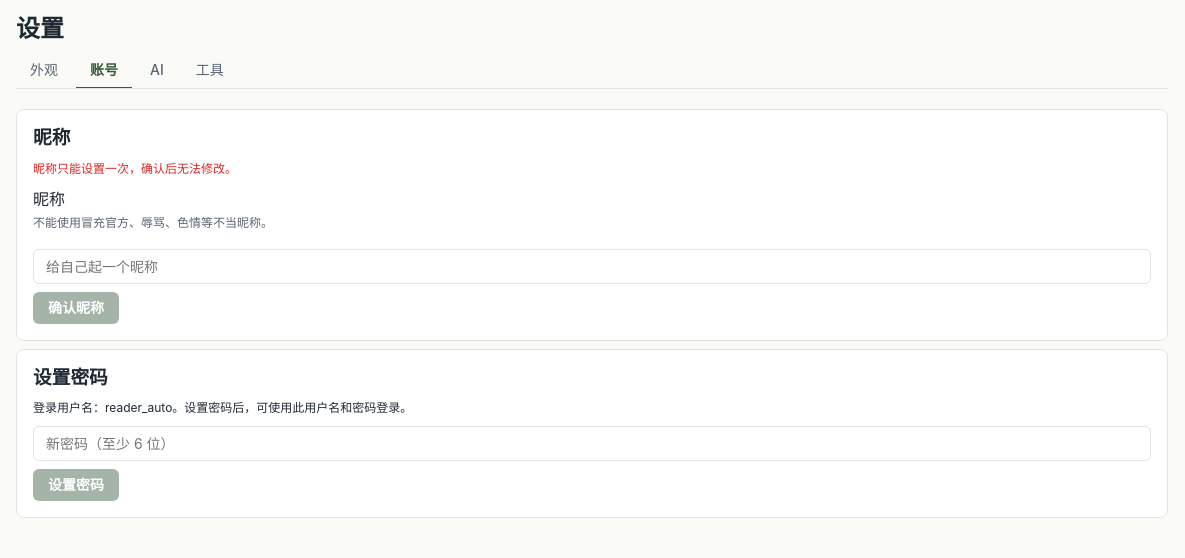
allows an external account to set its first password without an old password
Check: the heading "设置密码" is shown, box x1=33 y1=366 x2=108 y2=388
Check: the text "登录用户名：reader_auto。设置密码后，可使用此用户名和密码登录。" is shown, box x1=33 y1=400 x2=412 y2=415
Type "first-password" into the password field with placeholder "新密码（至少 6 位）" at [592, 443], box x1=33 y1=426 x2=1151 y2=461
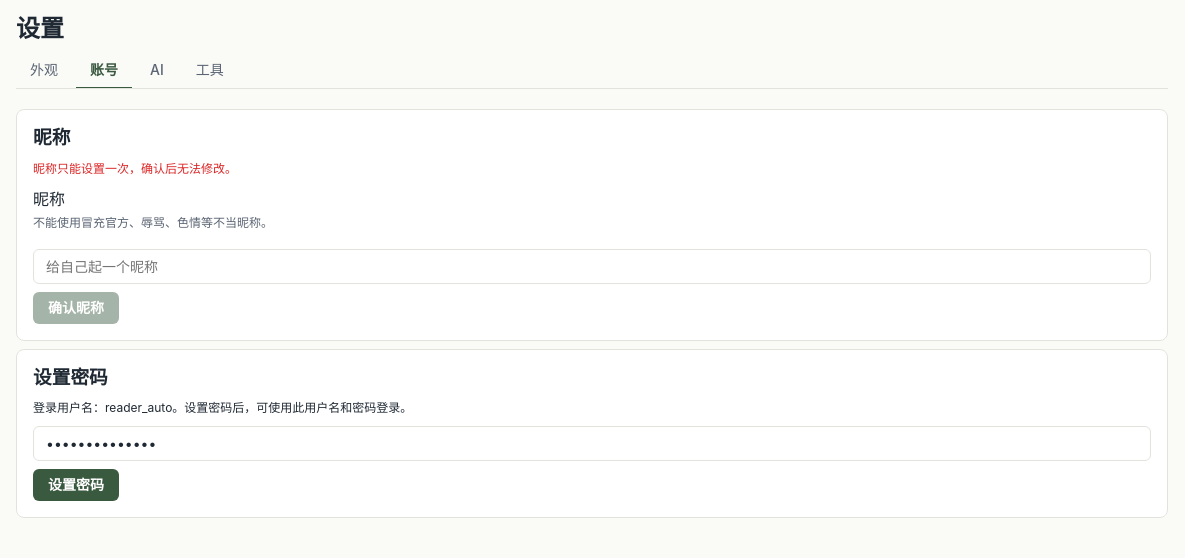
Click the button "设置密码" at [76, 485], box x1=33 y1=469 x2=119 y2=501
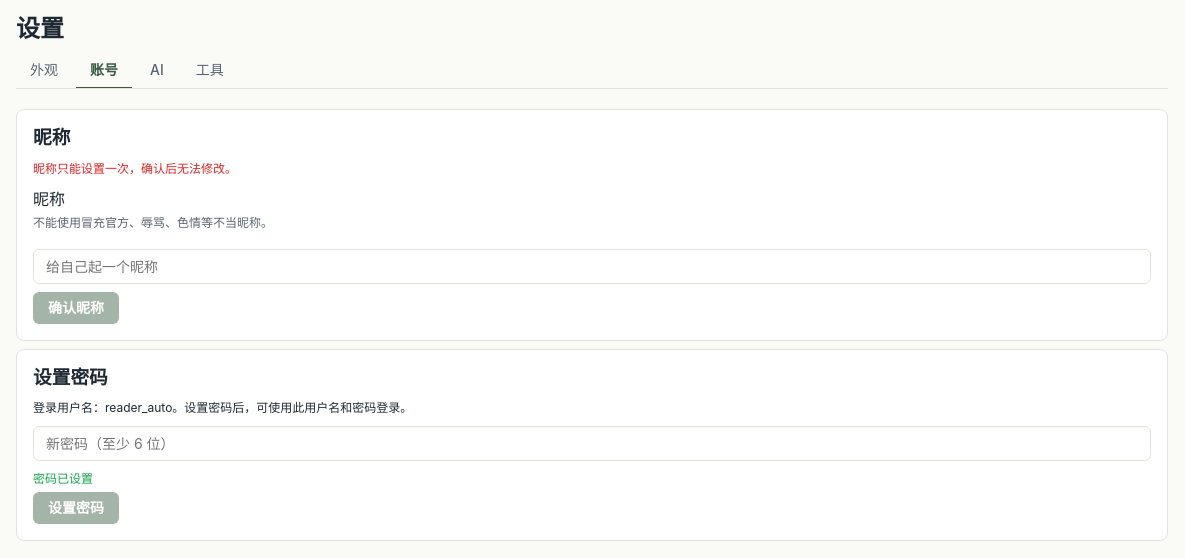
Check: the text "密码已设置" is shown, box x1=33 y1=471 x2=93 y2=486
